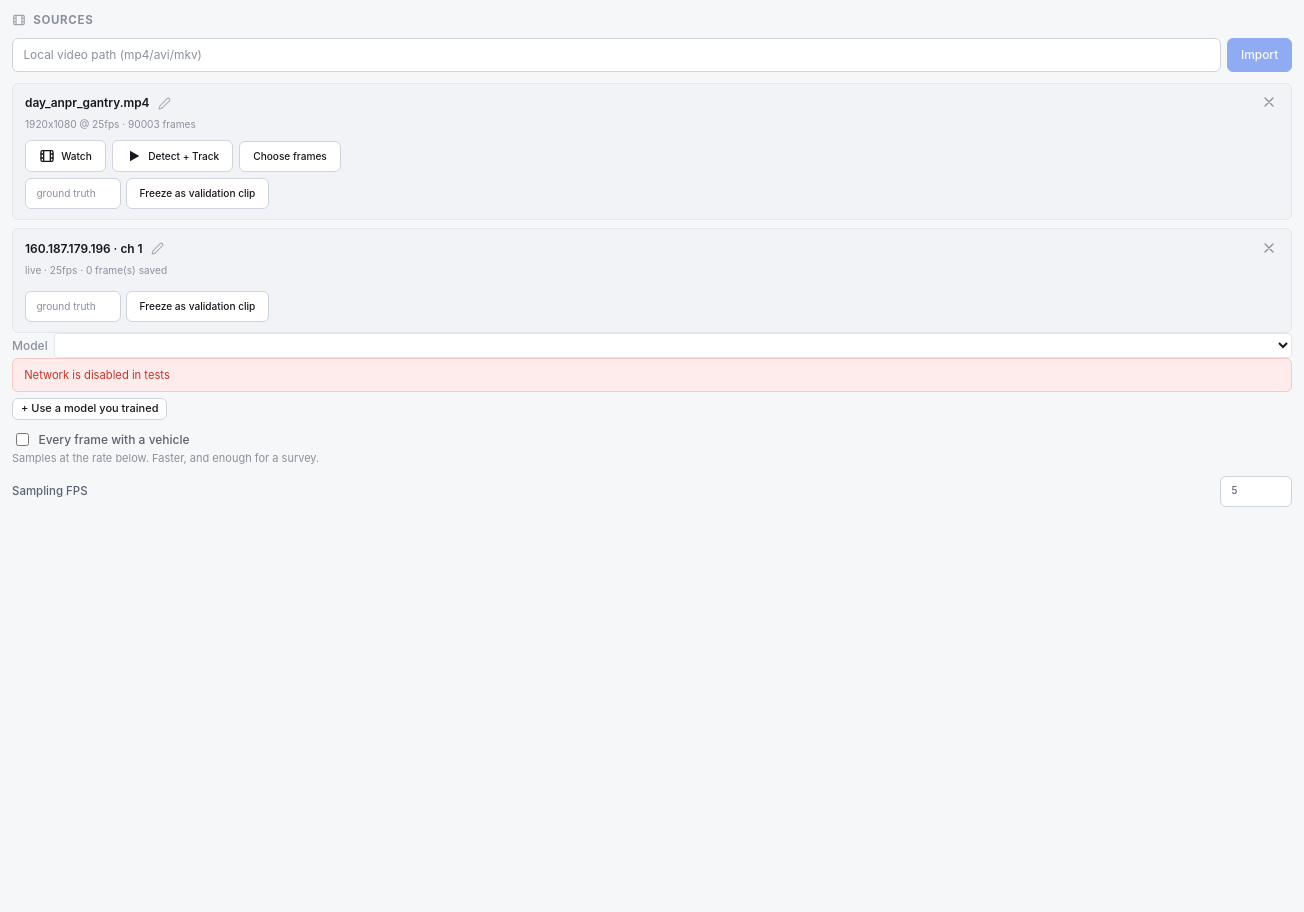
Scenario: SourcePanel: removing a source › says what removing would destroy before asking
Check: the button "day_anpr_gantry.mp4" is shown, box [25,94,150,112]
Click the button named "Remove day_anpr_gantry.mp4".
click(1269, 102)  # box [1254,91,1284,113]
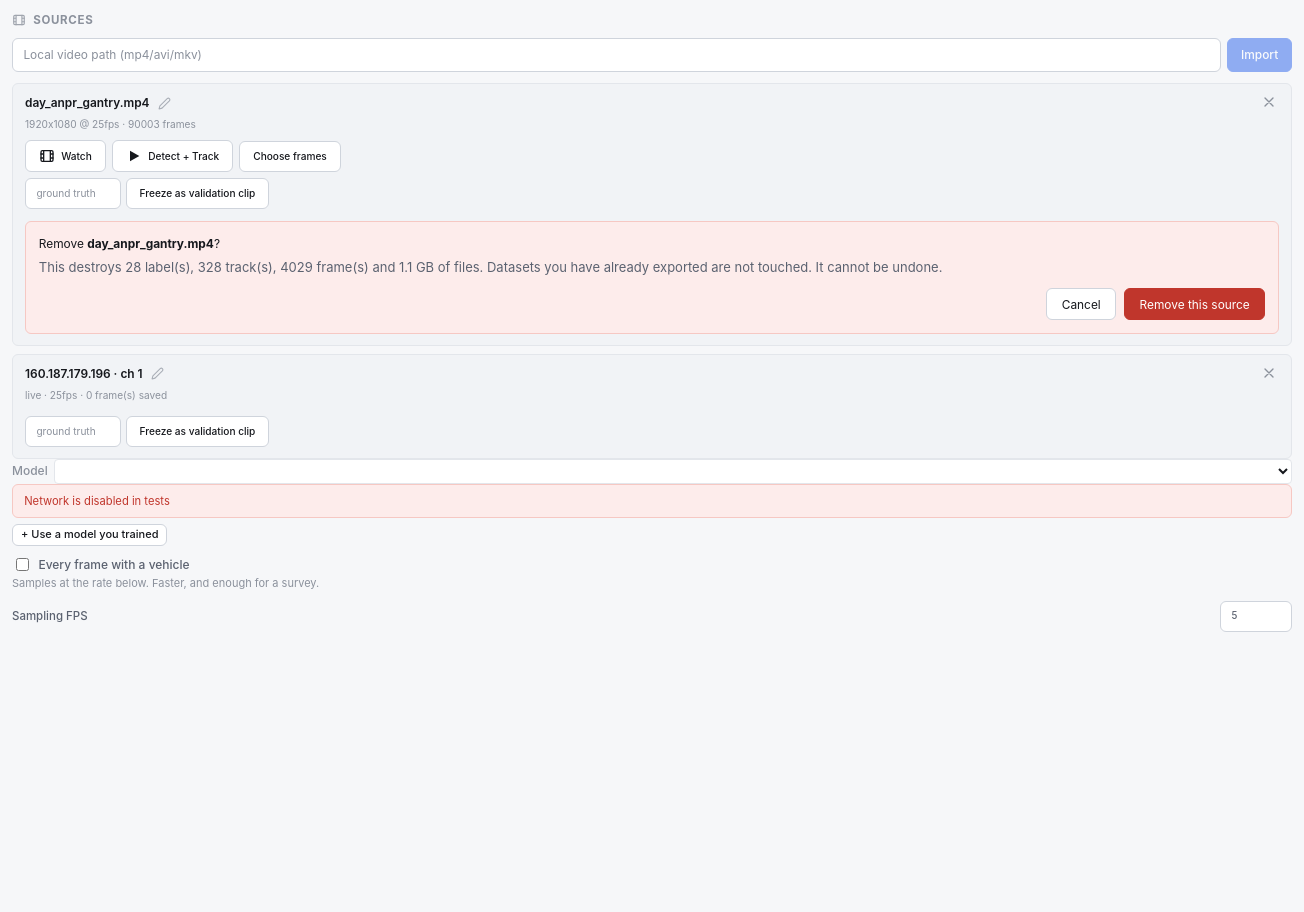
Check: the text with test id "remove-source-summary" shows "28", box [125,259,141,275]
Check: the text with test id "remove-source-summary" shows "4029", box [280,259,313,275]
